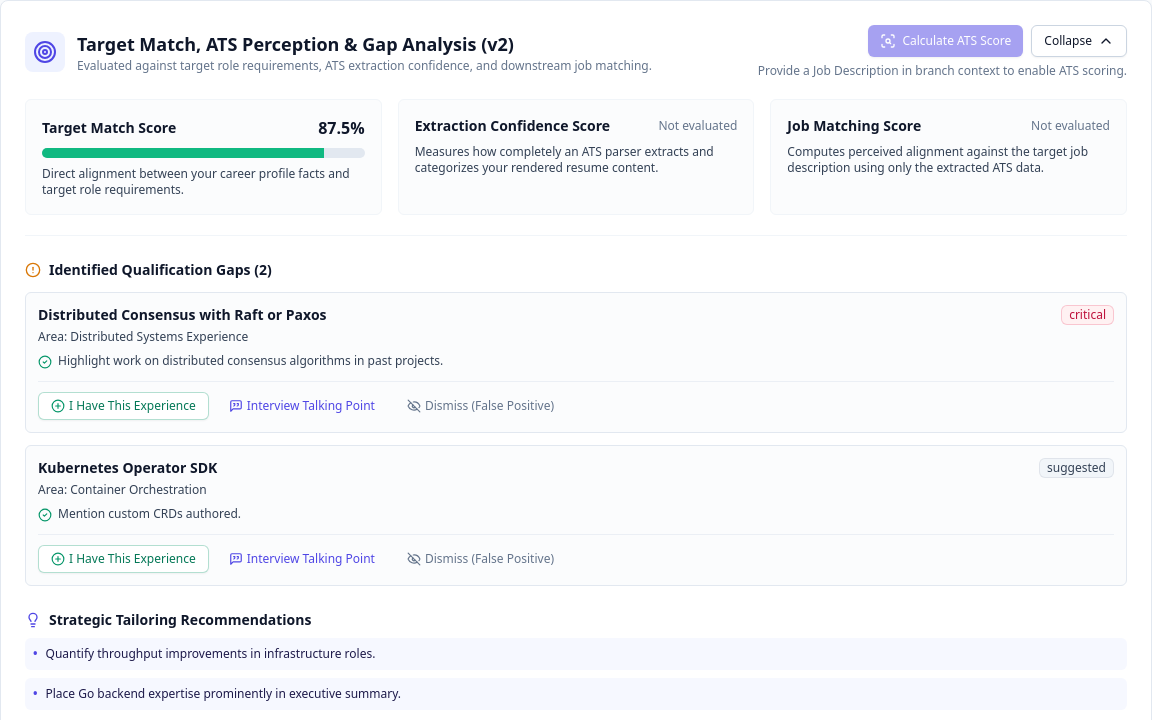
Test: GapAnalysisCard › opens quick-add fact modal when clicking 'I Have This Experience'
What coordinates should you click on to do the following:
click the button "I Have This Experience" below "Distributed Systems Experience"
I would click on:
 (123, 406)
Its box is [38,392,209,420].
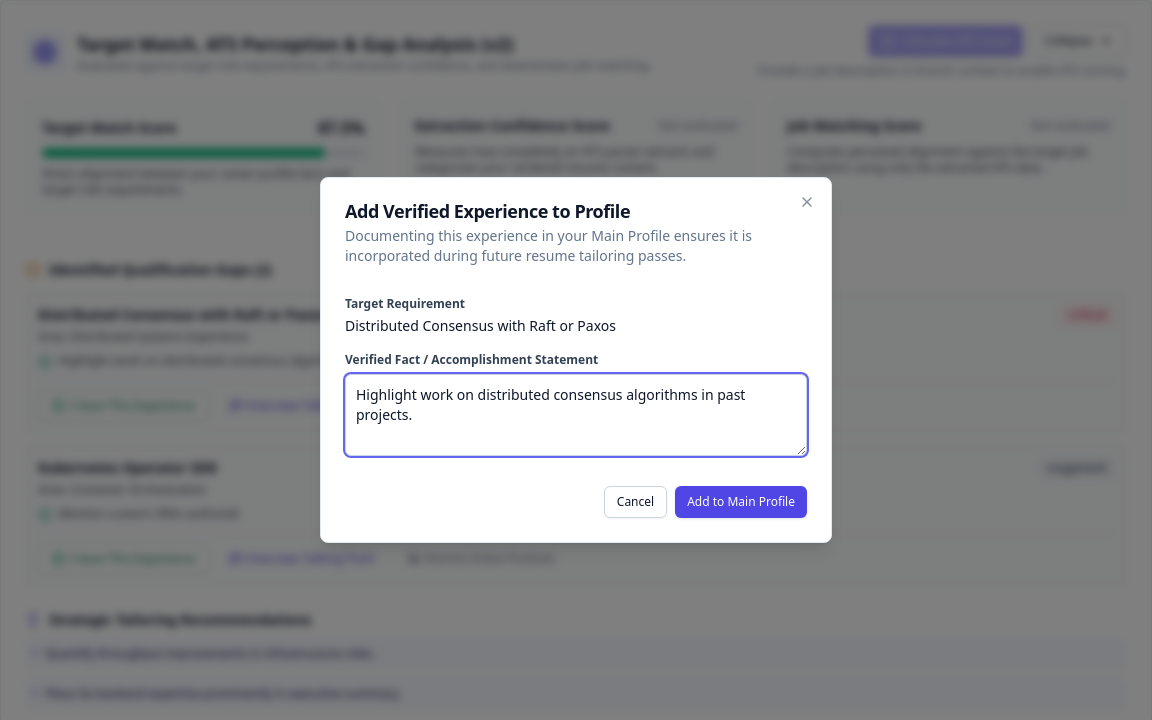
Expected: the dialog is shown, [320,177,832,543]
Expected: the heading "Add Verified Experience to Profile" is shown, [345,199,630,223]
